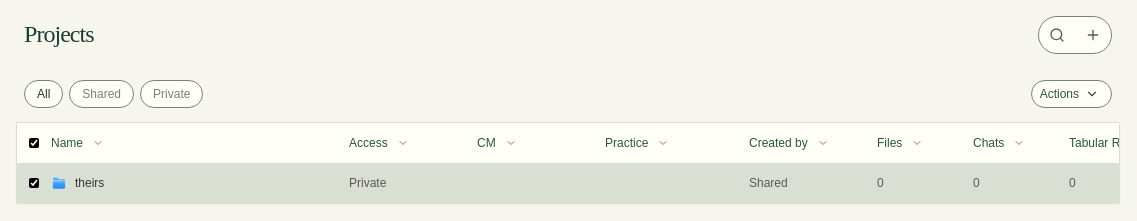
Scenario: ProjectsOverview bulk delete › names an admin the refused user can ask
Click the button "Actions": (1071, 94) x1=1031 y1=80 x2=1112 y2=108
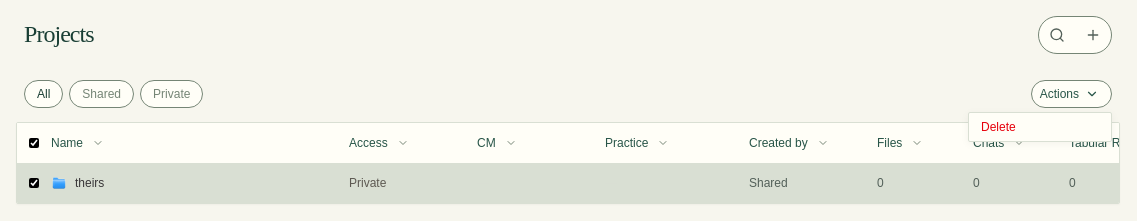
Click the button "Delete": (1040, 127) x1=969 y1=113 x2=1111 y2=141
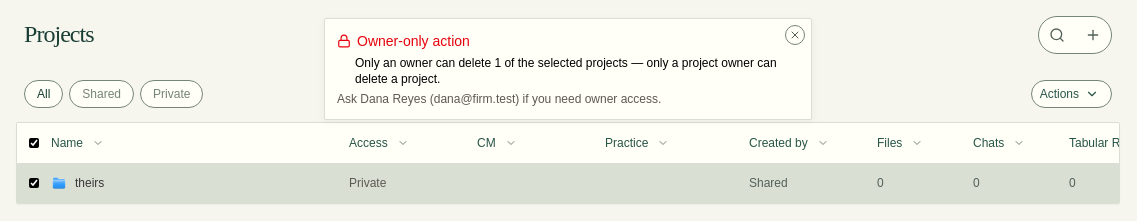
Expected: the text "only a project owner can delete a project" is shown, x1=355 y1=56 x2=777 y2=86
Expected: the text "Dana Reyes (dana@firm.test)" is shown, x1=360 y1=92 x2=519 y2=106
